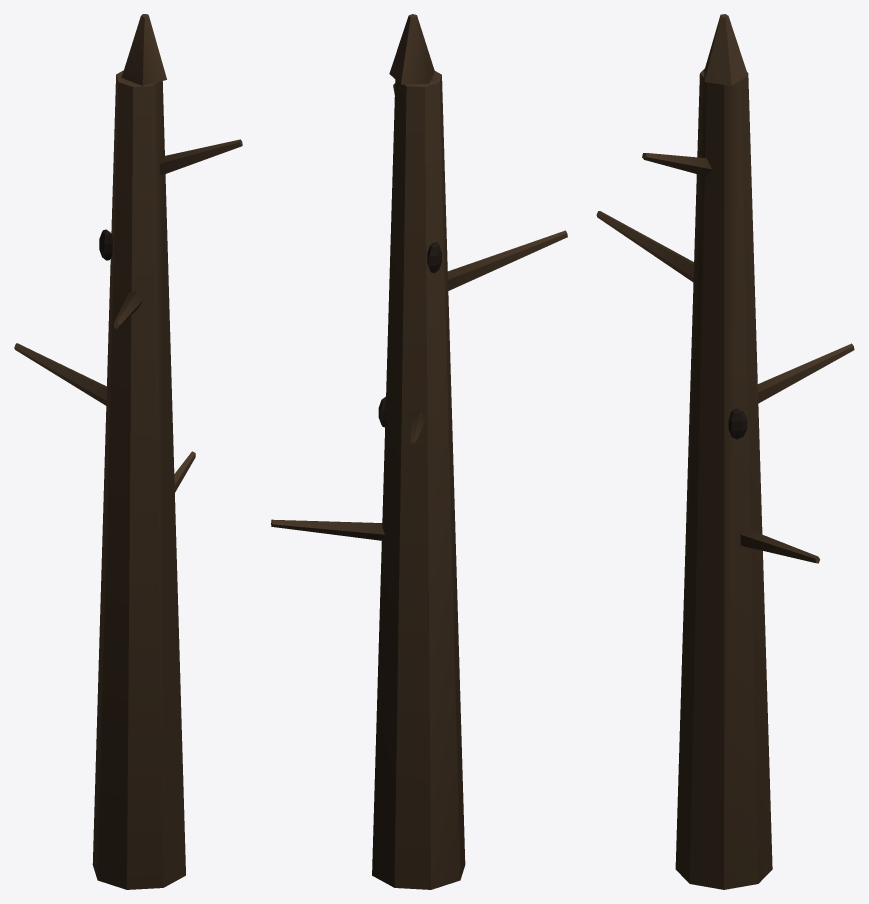
Rendered from struct_snag.glb.
The picture shows the model from 3 angles, left to right: view 1: azimuth 30°, elevation 25°; view 2: azimuth 150°, elevation 25°; view 3: azimuth 270°, elevation 25°; orthographic projection.
Parts seen in each view (by area): view 1: trunk; view 2: trunk; view 3: trunk.
Part boxes in pixels (x1=…): trunk: x1=14, y1=14, x2=242, y2=889; trunk: x1=271, y1=14, x2=567, y2=889; trunk: x1=596, y1=14, x2=854, y2=889.
Size of the model in its own units: 0.825 by 3.55 by 0.9695.
